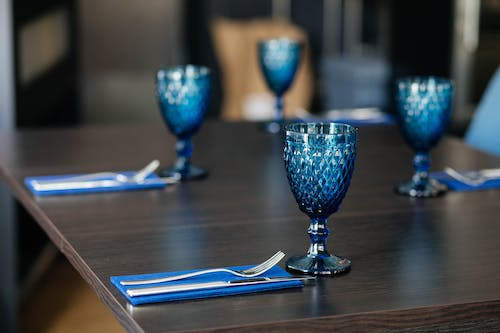knife: (125, 274, 319, 299), (32, 177, 182, 192)
